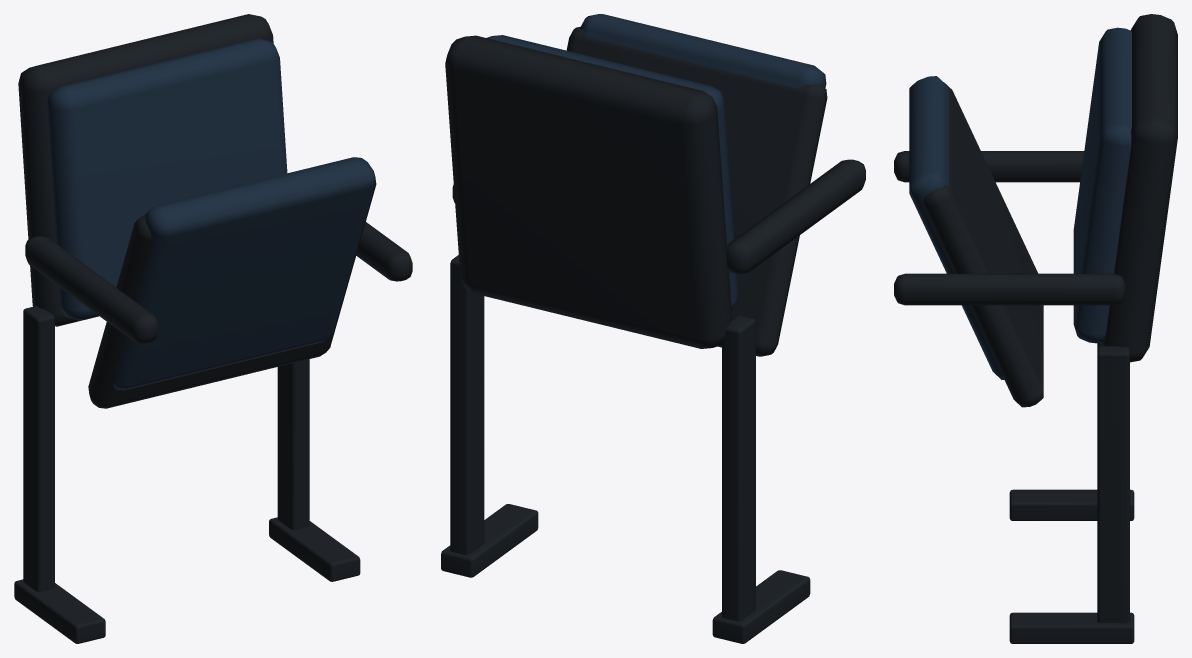
Rendered from seat.glb.
The picture shows the model from 3 angles, left to right: view 1: azimuth 30°, elevation 25°; view 2: azimuth 150°, elevation 25°; view 3: azimuth 270°, elevation 25°; orthographic projection. The views are drawn at different scales.
Parts seen in each view (by area): view 1: SM_Seat_Standard_LOD0; view 2: SM_Seat_Standard_LOD0; view 3: SM_Seat_Standard_LOD0.
Part boxes in pixels (bbox=[...]): SM_Seat_Standard_LOD0: bbox=[14, 14, 412, 643]; SM_Seat_Standard_LOD0: bbox=[441, 14, 865, 643]; SM_Seat_Standard_LOD0: bbox=[894, 14, 1177, 643].
Size of the model in its own units: 0.549 by 0.9523 by 0.4786.
